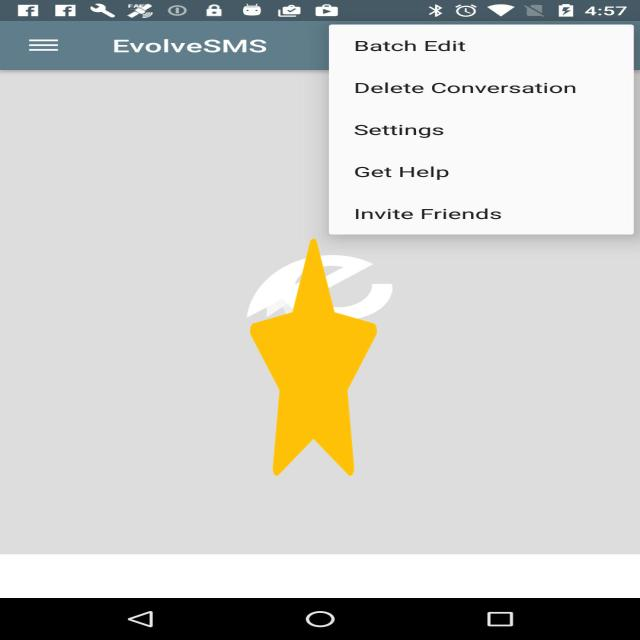forced continuity: (250, 238, 377, 476)
